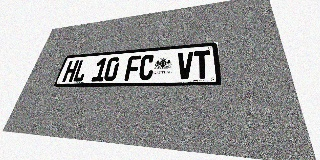0: (103, 57, 120, 81)
1: (91, 58, 109, 82)
C: (138, 54, 155, 80)
F: (124, 55, 141, 81)
H: (62, 60, 79, 82)
L: (72, 59, 90, 82)
T: (194, 50, 211, 79)
V: (177, 51, 193, 79)
